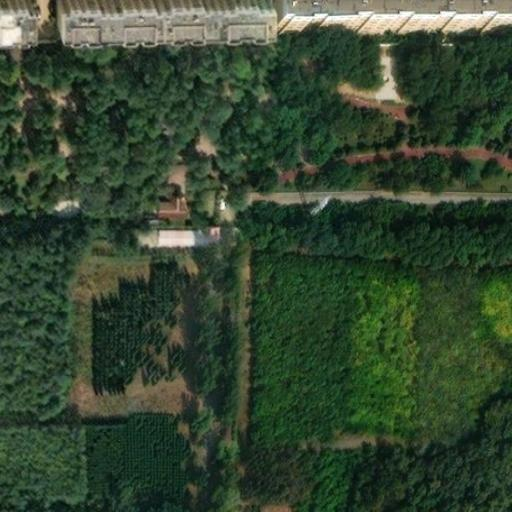building: (274, 0, 512, 26), (157, 222, 222, 247), (155, 192, 188, 219)
